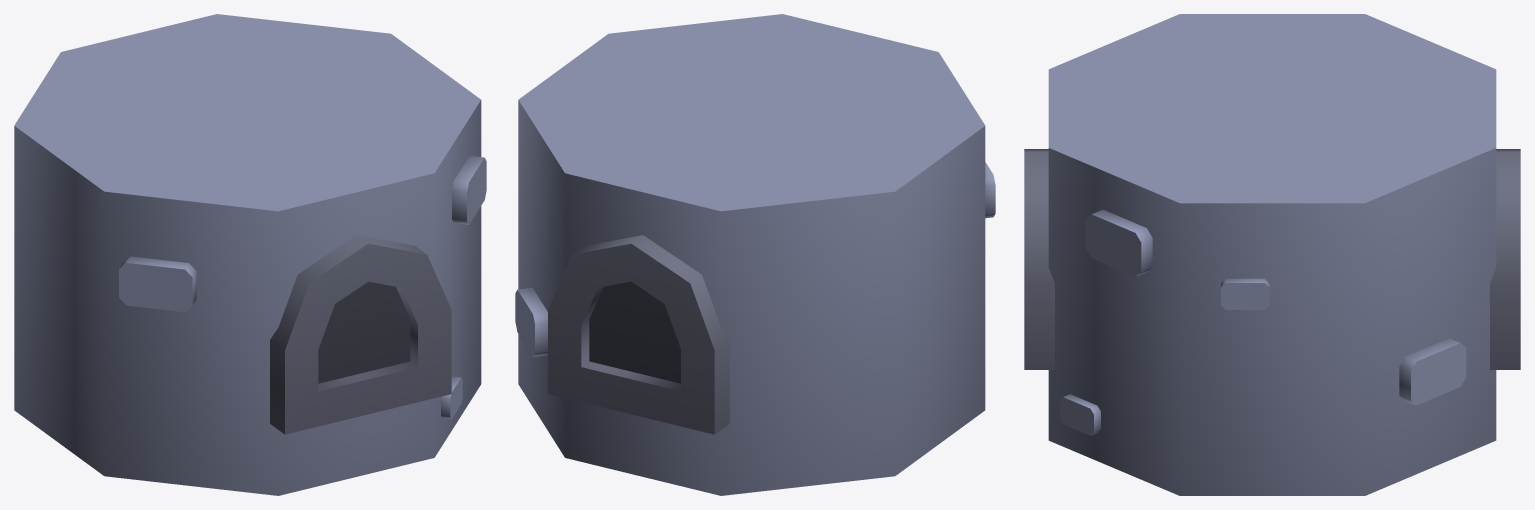
Rendered from tower-middle-windows.glb.
The picture shows the model from 3 angles, left to right: view 1: azimuth 30°, elevation 25°; view 2: azimuth 150°, elevation 25°; view 3: azimuth 270°, elevation 25°; orthographic projection. The views are drawn at different scales.
Visible parts, largest first — view 1: tower-middle-windows; view 2: tower-middle-windows; view 3: tower-middle-windows.
Part boxes in pixels (bbox=[...]): tower-middle-windows: bbox=[14, 14, 486, 495]; tower-middle-windows: bbox=[515, 14, 995, 495]; tower-middle-windows: bbox=[1024, 14, 1520, 495].
Bounding box in the file's own units: 2.83 × 2 × 3.07.
